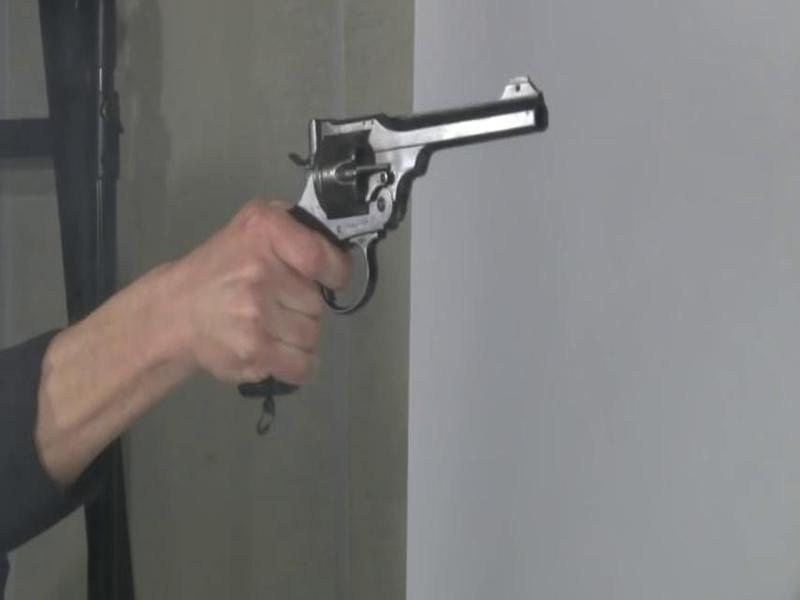Revolver: (264, 72, 557, 336)
